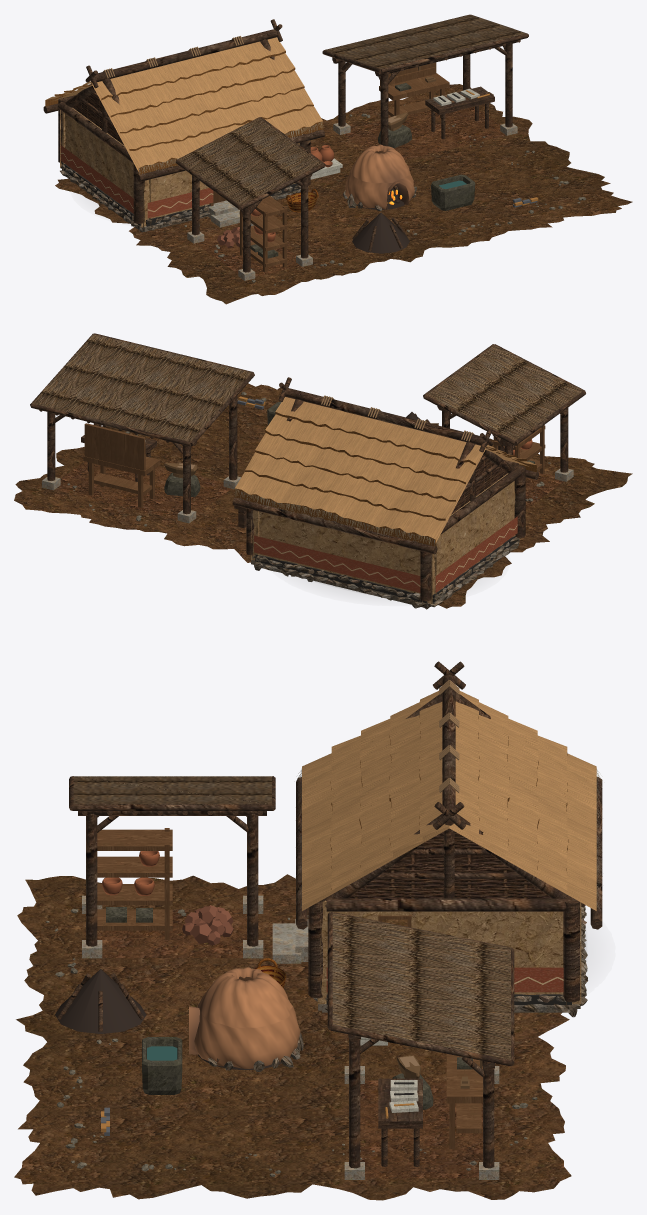
File: bronze_foundry.glb
3 renders of one model, top to bottom at view 1: azimuth 30°, elevation 25°; view 2: azimuth 150°, elevation 25°; view 3: azimuth 270°, elevation 25°, orthographic. The views are drawn at different scales.
Parts seen in each view (by area): view 1: part_1, part_26, part_11, part_12, part_9, part_5, part_6, part_21, part_27, part_30, part_7, part_4 (+8 smaller); view 2: part_12, part_26, part_1, part_11, part_5, part_9, part_6, part_30, part_27, part_4, part_19, part_29 (+3 smaller); view 3: part_1, part_26, part_11, part_12, part_9, part_21, part_6, part_5, part_14, part_10, part_22, part_7 (+6 smaller).
Boxes of the visible parts, left/top/right/bottom form: part_1: left=55, top=84, right=632, bottom=304; part_26: left=46, top=37, right=322, bottom=171; part_11: left=43, top=14, right=528, bottom=272; part_12: left=178, top=15, right=525, bottom=205; part_9: left=196, top=106, right=505, bottom=276; part_5: left=60, top=107, right=308, bottom=227; part_6: left=209, top=62, right=449, bottom=272; part_21: left=345, top=144, right=414, bottom=210; part_27: left=45, top=51, right=323, bottom=174; part_30: left=60, top=145, right=299, bottom=218; part_7: left=250, top=83, right=475, bottom=258; part_4: left=60, top=164, right=416, bottom=232; part_12: left=32, top=334, right=582, bottom=441; part_26: left=235, top=397, right=535, bottom=543; part_1: left=14, top=383, right=632, bottom=608; part_11: left=30, top=333, right=585, bottom=601; part_5: left=250, top=473, right=521, bottom=603; part_9: left=55, top=461, right=563, bottom=519; part_6: left=83, top=423, right=545, bottom=507; part_30: left=254, top=516, right=517, bottom=592; part_27: left=234, top=412, right=536, bottom=546; part_4: left=251, top=537, right=519, bottom=609; part_19: left=255, top=535, right=518, bottom=607; part_29: left=234, top=471, right=537, bottom=546; part_1: left=14, top=874, right=571, bottom=1200; part_26: left=302, top=691, right=596, bottom=910; part_11: left=57, top=661, right=602, bottom=1168; part_12: left=73, top=776, right=510, bottom=1059; part_9: left=97, top=909, right=482, bottom=1178; part_21: left=189, top=967, right=300, bottom=1068; part_6: left=97, top=828, right=482, bottom=1148; part_5: left=317, top=900, right=581, bottom=1004; part_14: left=348, top=832, right=550, bottom=898; part_10: left=82, top=895, right=499, bottom=1179; part_22: left=55, top=969, right=291, bottom=1069; part_7: left=106, top=907, right=472, bottom=1109.
Bounding box in the file's own units: 9.4 × 2.94 × 7.32.
31 materials, 18 textured.
